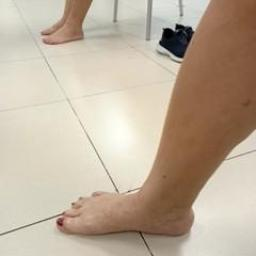Medial View -Right Foot-: (42, 132, 209, 250)
